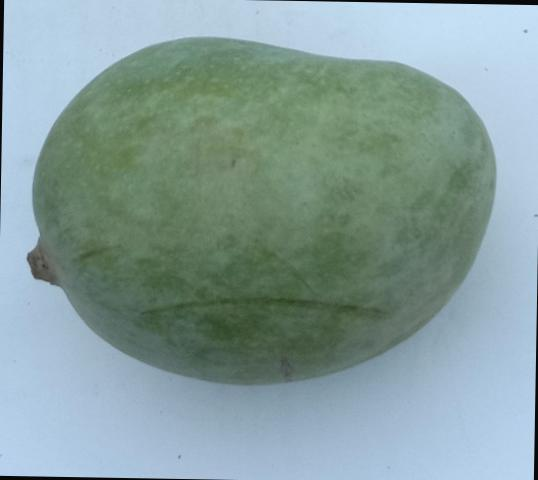Mango Unripe: (10, 14, 518, 433)
